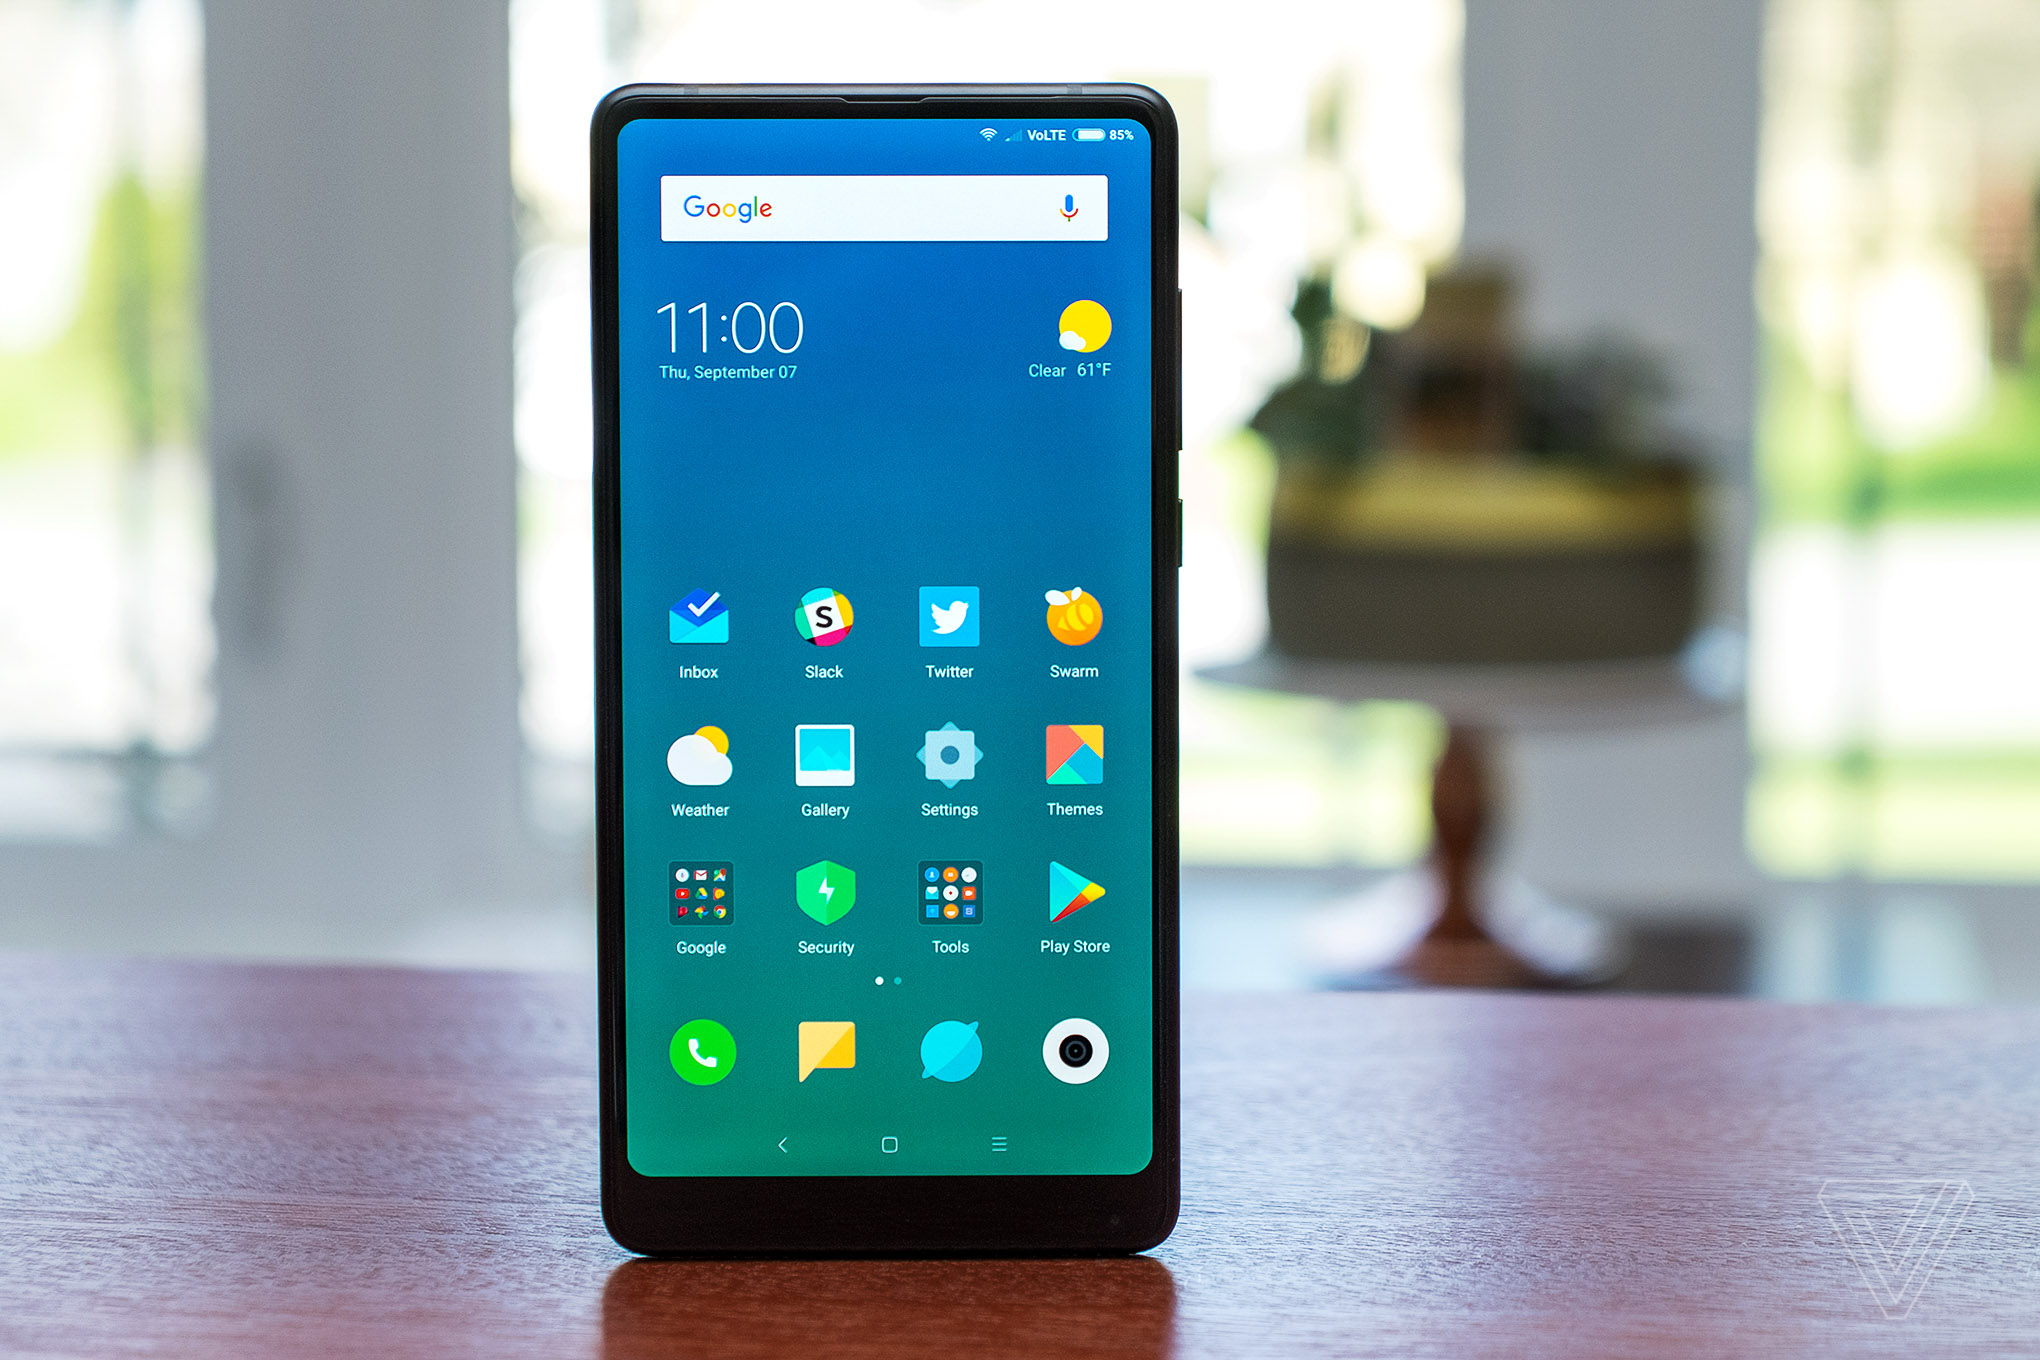phone: (574, 74, 1223, 1277)
